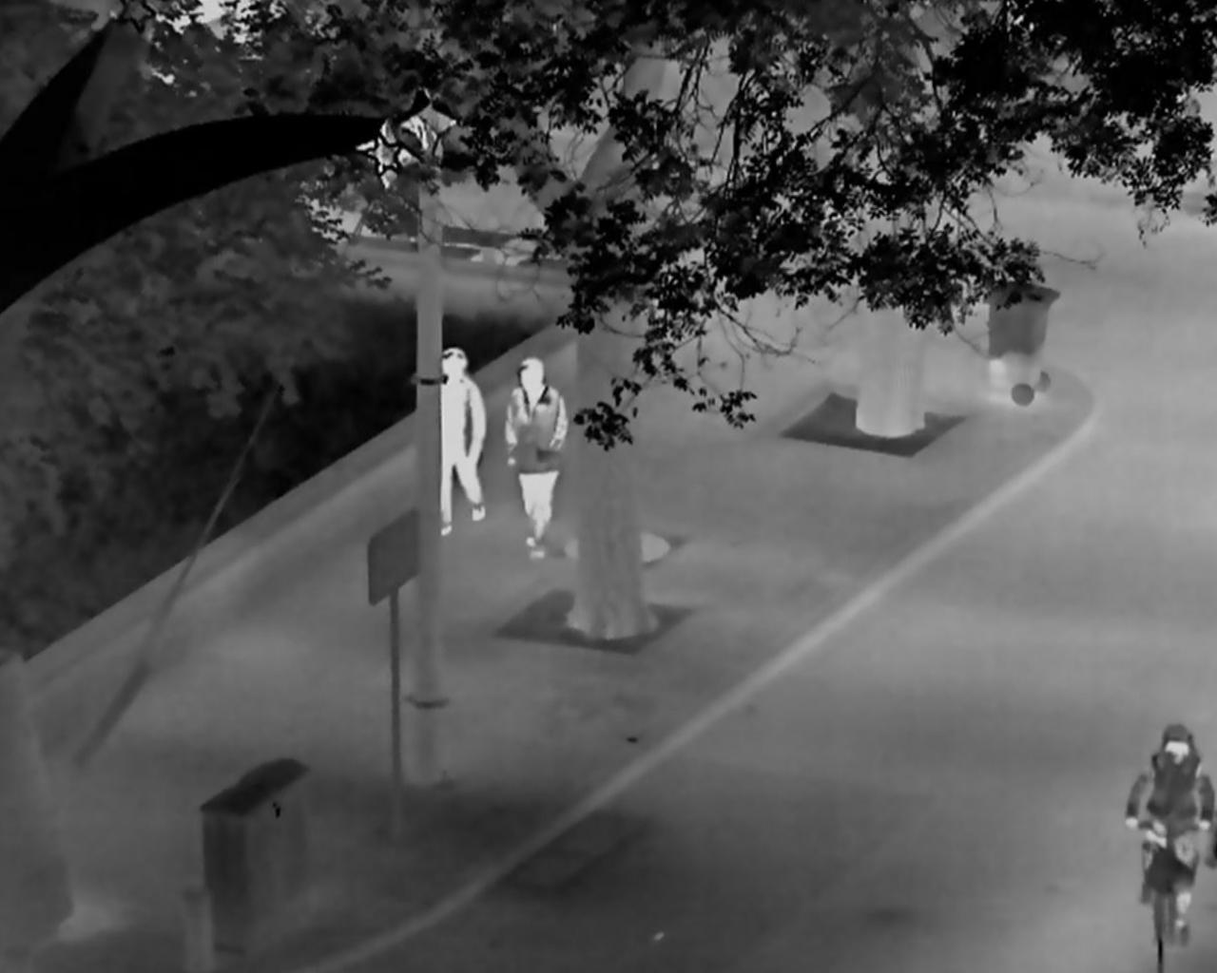person: (1126, 723, 1217, 953), (502, 355, 568, 558), (440, 343, 487, 536)
